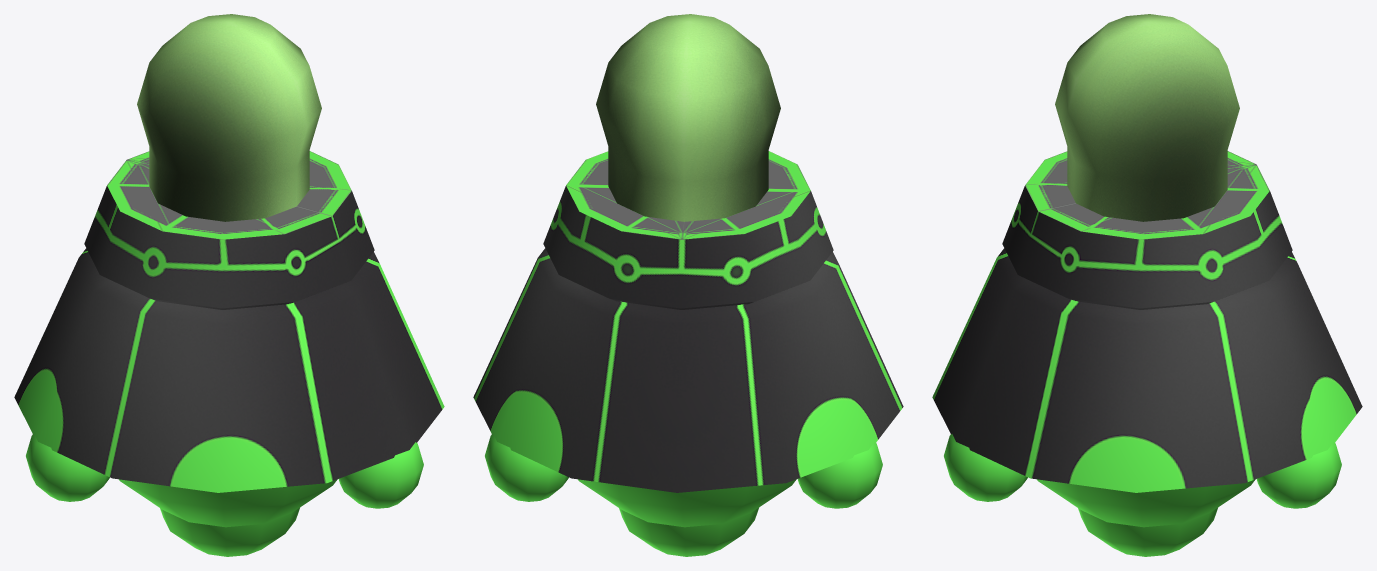
The model's file is Player_Yellow.FBX.
The picture shows the model from 3 angles, left to right: view 1: azimuth 30°, elevation 25°; view 2: azimuth 150°, elevation 25°; view 3: azimuth 270°, elevation 25°; orthographic projection.
Parts seen in each view (by area): view 1: feidie_B; view 2: feidie_B; view 3: feidie_B.
Part boxes in pixels (box(x1,y1,x2,y2)): feidie_B: box(14, 14, 444, 556); feidie_B: box(473, 14, 903, 556); feidie_B: box(932, 14, 1362, 556).
Bounding box in the file's own units: 299 × 396 × 293.
